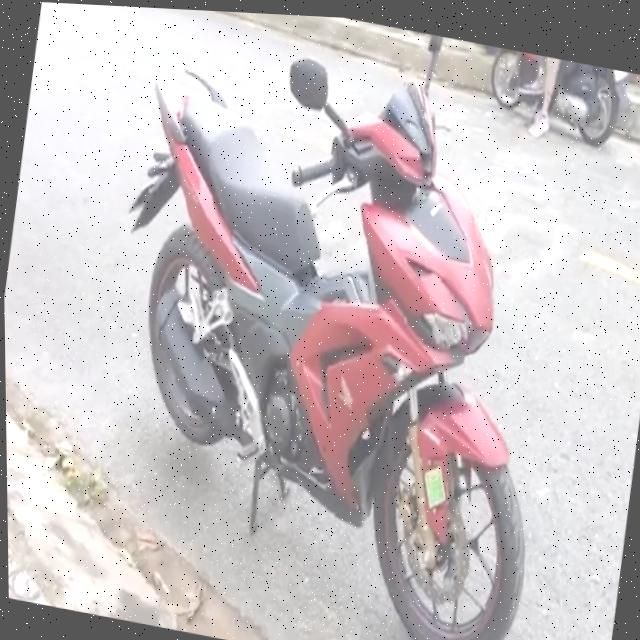motorcycle: (47, 2, 597, 640), (468, 43, 640, 163)
